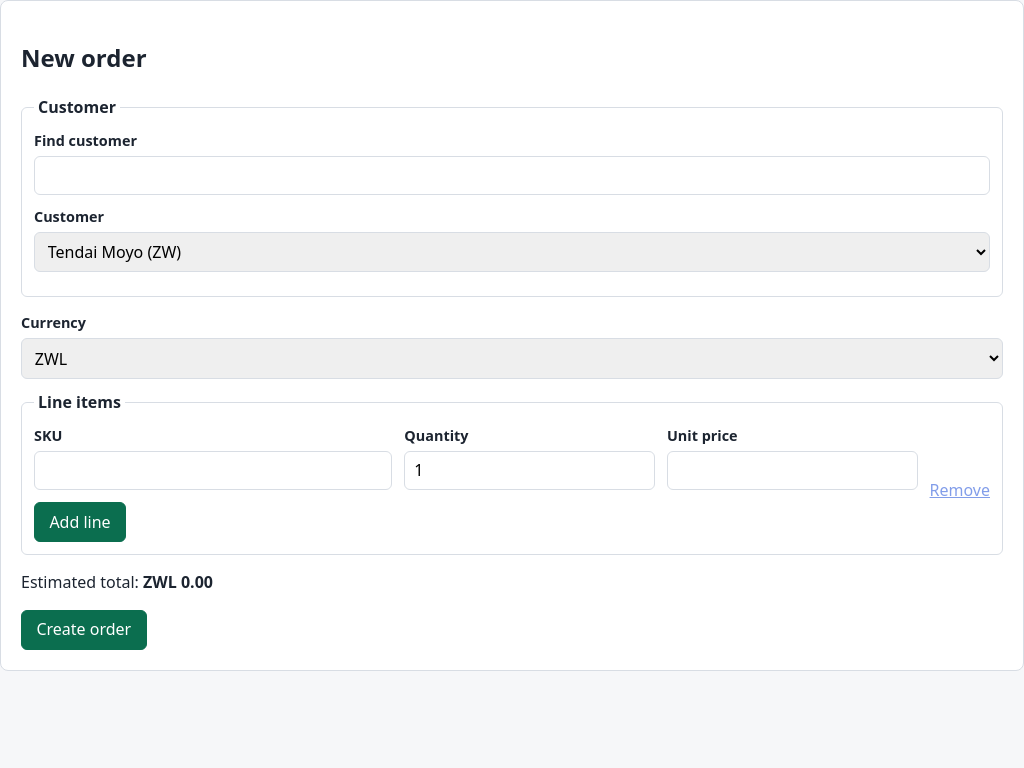
CreateOrderPage › maps server validation errors onto the line item fields
The width and height of the screenshot is (1024, 768).
expect the dropdown labelled "Customer" shows "Tendai Moyo (ZW)": met, box top-left (34, 232), bottom-right (990, 272)
Type "X" into the field labelled "SKU" at (213, 471), box top-left (34, 451), bottom-right (392, 490)
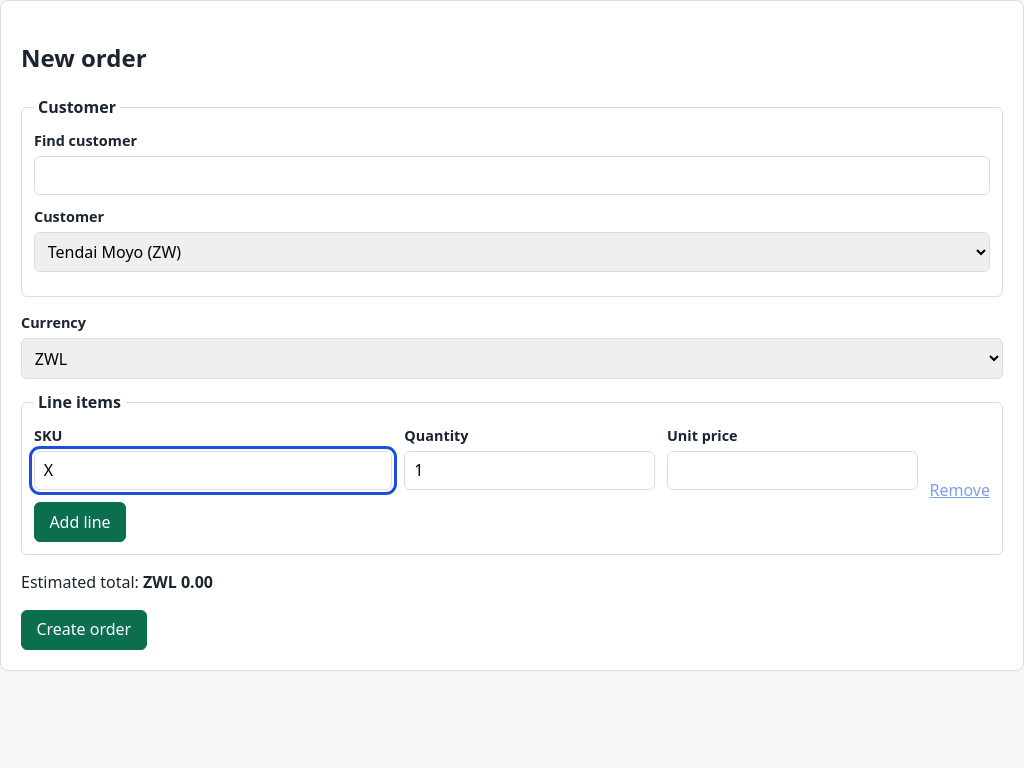
Click the button "Create order" at (84, 630), box top-left (21, 610), bottom-right (147, 650)
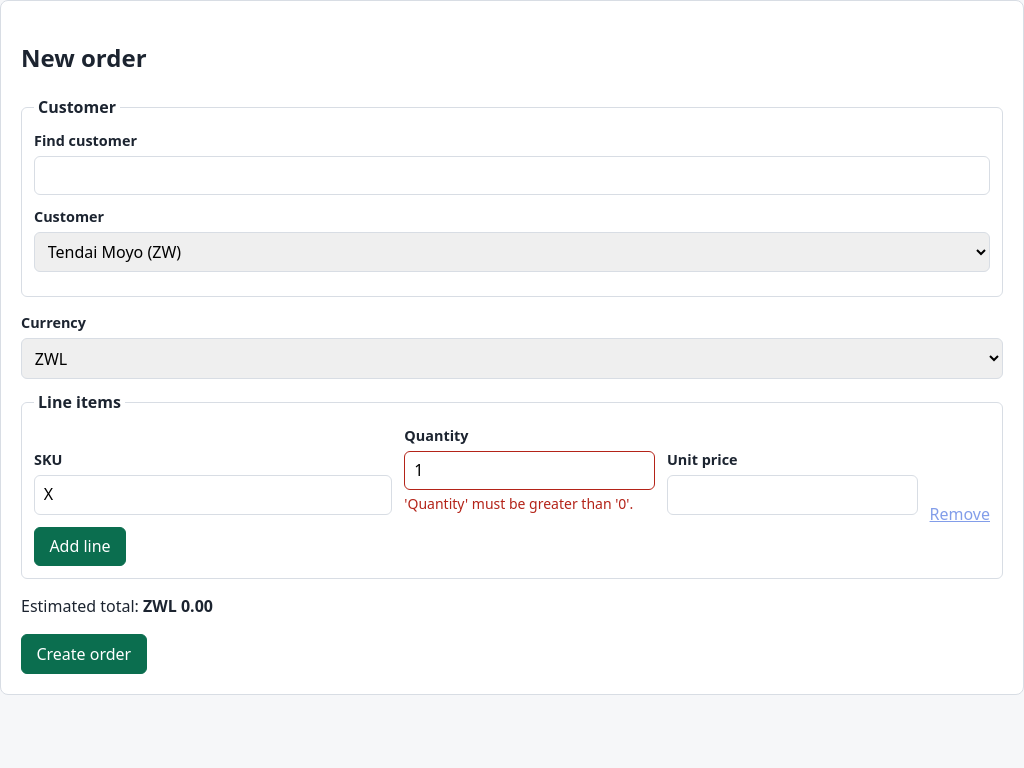
expect the text "'Quantity' must be greater than '0'." is shown: met, box top-left (404, 494), bottom-right (655, 515)
